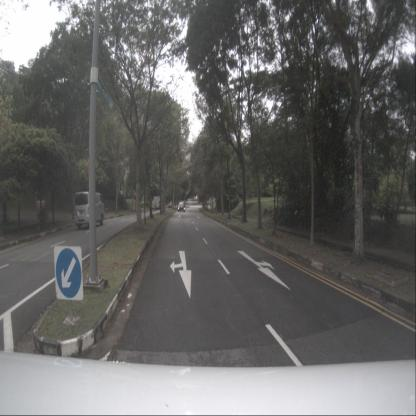vehicle-car: (73, 191, 105, 230), (178, 201, 185, 213)
vehicle-truck: (153, 196, 161, 210)
